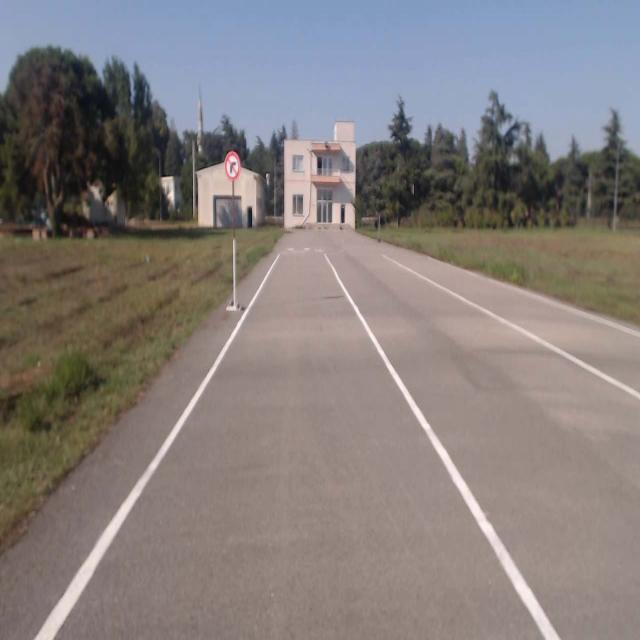sagadonulmez: (223, 151, 241, 181)
